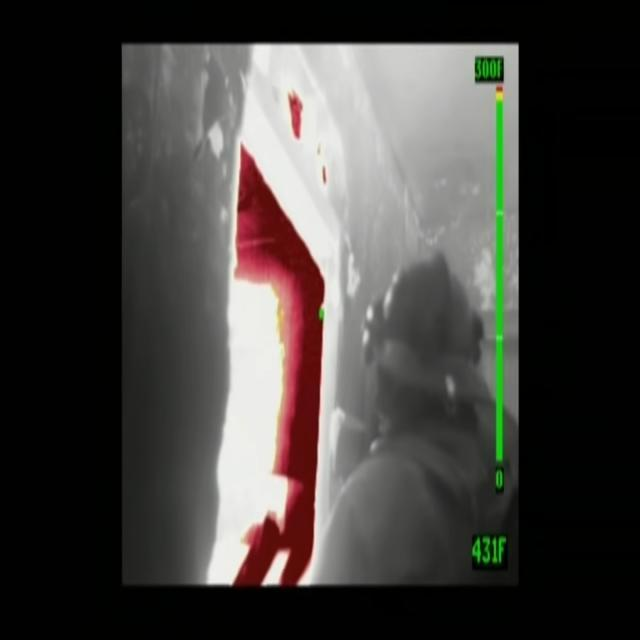fire: (222, 138, 330, 592)
